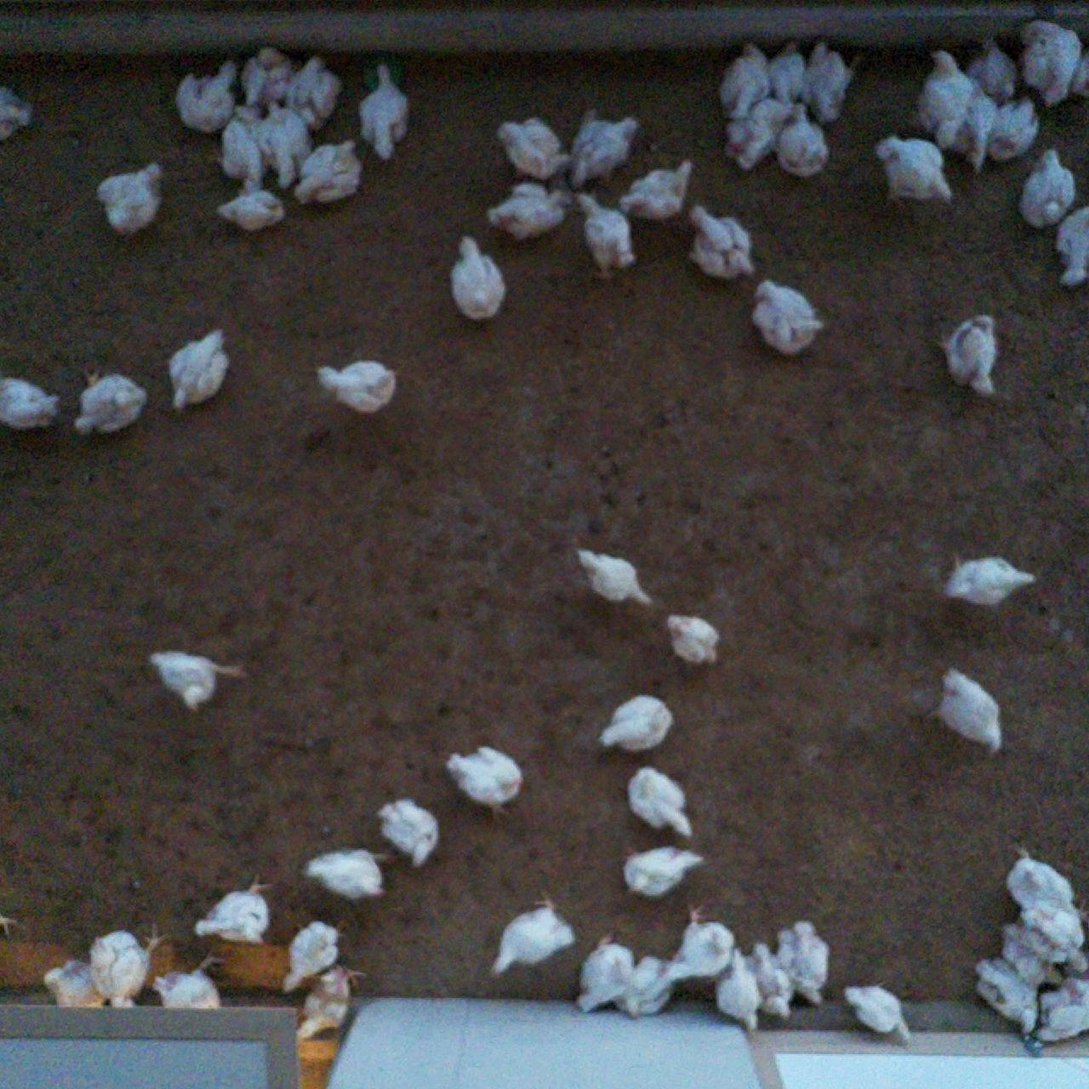chicken: (653, 906, 733, 989), (491, 892, 573, 971), (86, 921, 157, 1006), (919, 51, 976, 146), (875, 134, 949, 206), (750, 278, 819, 355), (976, 961, 1044, 1039), (447, 746, 521, 817), (149, 651, 242, 707), (294, 966, 364, 1040), (936, 668, 1000, 748), (198, 876, 273, 944), (936, 313, 996, 396), (576, 191, 633, 277), (773, 919, 830, 1005), (621, 764, 691, 834), (688, 204, 751, 281), (942, 555, 1035, 607), (1002, 849, 1074, 916), (285, 918, 350, 992), (154, 950, 234, 1010), (172, 328, 231, 409), (449, 237, 505, 322), (77, 364, 148, 430), (363, 64, 413, 157), (489, 181, 568, 239), (598, 692, 673, 753), (1018, 145, 1075, 225), (577, 934, 633, 1015), (496, 116, 570, 177), (255, 100, 310, 182), (728, 97, 791, 168), (1021, 18, 1072, 103), (316, 359, 397, 412), (305, 850, 386, 903), (1027, 901, 1087, 972), (574, 115, 639, 180), (105, 165, 167, 232), (576, 549, 650, 605), (842, 985, 912, 1044), (376, 797, 436, 865), (624, 159, 693, 217), (174, 58, 231, 128), (303, 140, 364, 204), (621, 847, 704, 894), (214, 108, 259, 193), (803, 38, 848, 123), (1047, 199, 1089, 289), (1000, 917, 1057, 983), (749, 943, 795, 1023), (1038, 978, 1089, 1050), (717, 948, 760, 1033), (780, 101, 826, 177), (294, 54, 341, 127), (718, 43, 765, 116), (966, 37, 1018, 100), (1, 379, 58, 436), (619, 955, 670, 1014), (41, 958, 100, 1008), (665, 613, 720, 665), (214, 191, 286, 230), (994, 101, 1041, 155), (241, 48, 288, 100), (963, 83, 989, 171), (3, 83, 37, 140), (767, 38, 796, 104), (1075, 46, 1089, 104)
